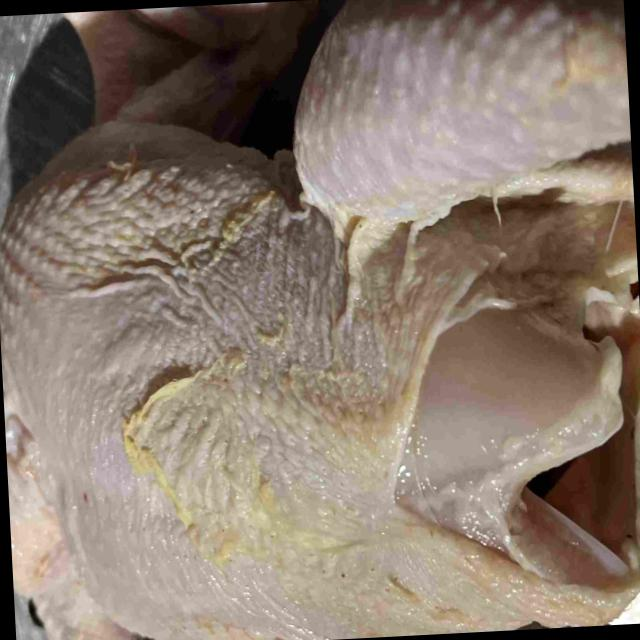breast: (0, 130, 632, 640)
leg: (302, 0, 631, 211)
neck: (4, 400, 140, 640)
wing: (59, 0, 317, 140)
